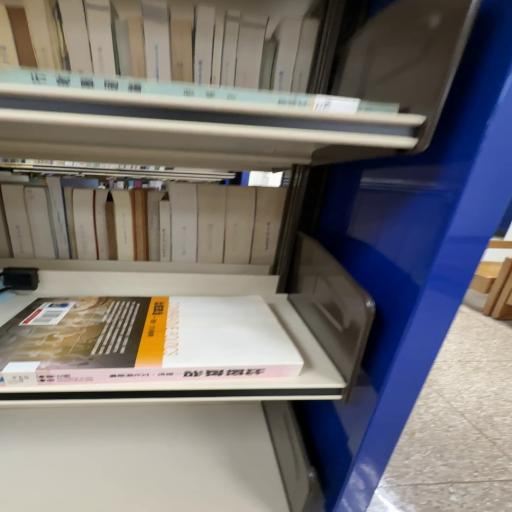flat: (0, 296, 304, 387)
